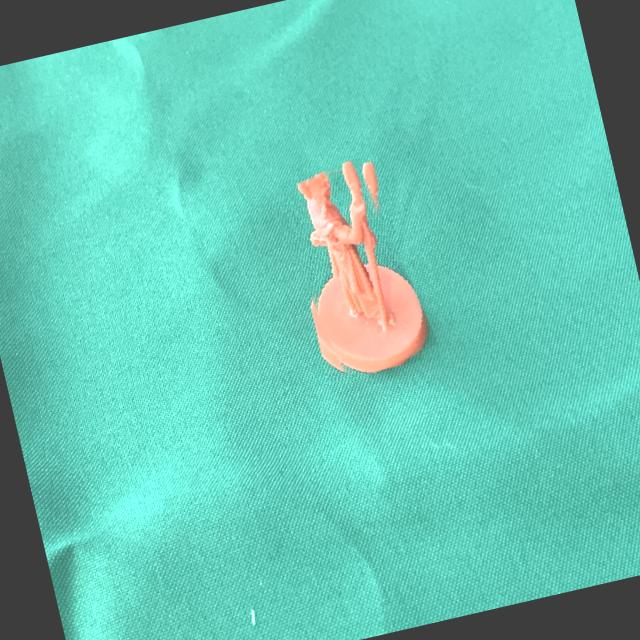amon_follower: (297, 160, 428, 372)
